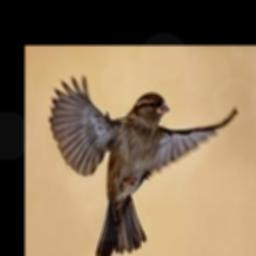Sparrow: (50, 75, 237, 256)
